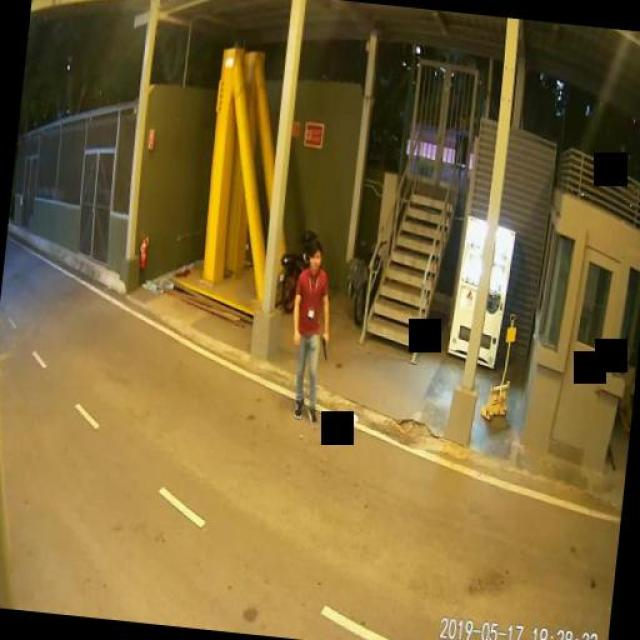gun: (319, 332, 329, 360)
